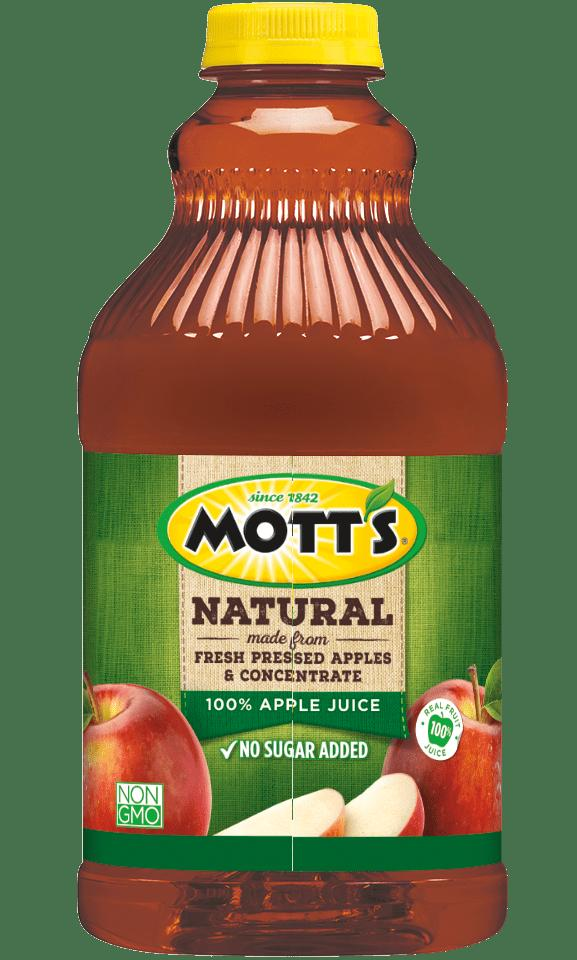juice: (67, 3, 507, 960)
